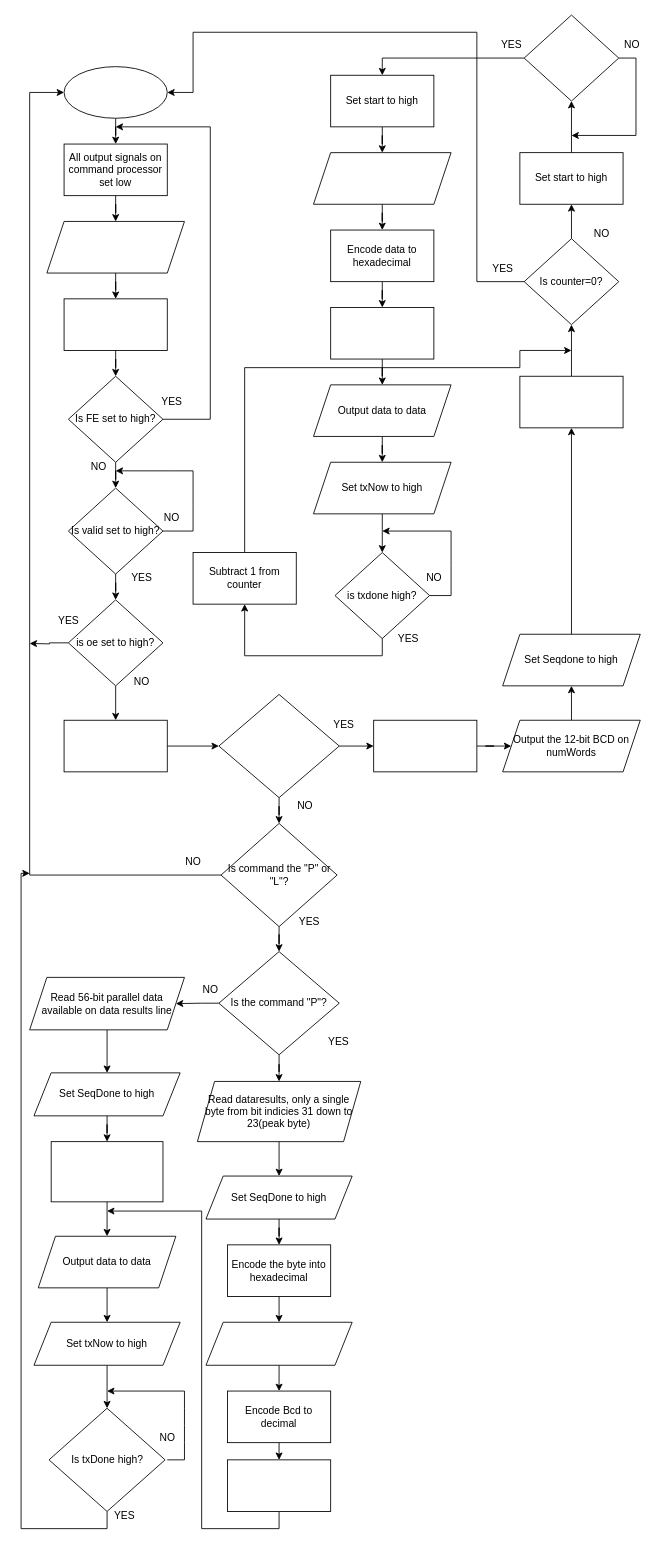
This 664x1551 diagram has some shape labels left out. Here are the shapes that lost their labels. From the top down, the centre of each, then its label:
point (571, 57): Is data ready high?
point (115, 92): Start
point (382, 178): Read data on byte
point (115, 247): Read 8-bit parallel data available on data line
point (115, 324): Set done to high after reading data
point (382, 333): Add space at the end of the hexadecimal
point (571, 401): Counter = 3 digit number
point (115, 745): Convert the 8-bit data into comand
point (278, 746): Is the command "A" followed by 3 digits?
point (425, 745): Encode the 3-digit number into 12 bit BCD
point (106, 1171): Encode the data into 2-digit hexadecimal,each byte separated by a space
point (278, 1343): Read 12-bit max index
point (279, 1485): combine hexadecimal +space+decimal
